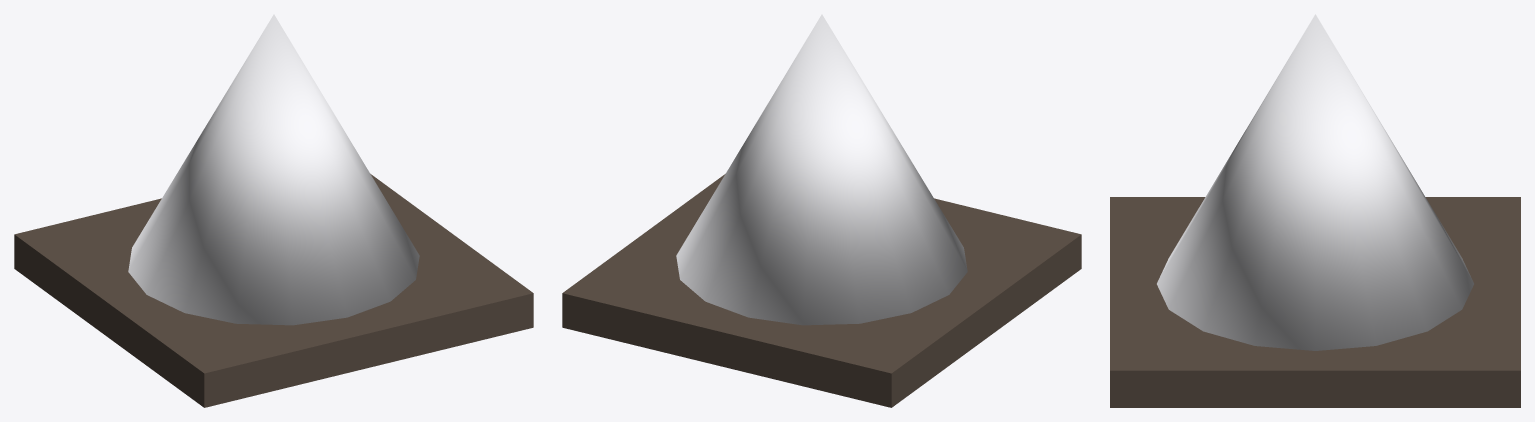
Rendered from prop_morishio.glb.
3 views of the same model, side by side, from view 1: azimuth 30°, elevation 25°; view 2: azimuth 150°, elevation 25°; view 3: azimuth 270°, elevation 25° (orthographic). The views are drawn at different scales.
Parts seen in each view (by area): view 1: morishio; view 2: morishio; view 3: morishio.
Part boxes in pixels (box(x1,y1,x2,y2)): morishio: box(14, 14, 533, 407); morishio: box(562, 14, 1081, 407); morishio: box(1110, 14, 1520, 407).
Size of the model in its own units: 0.4 by 0.33 by 0.4.
